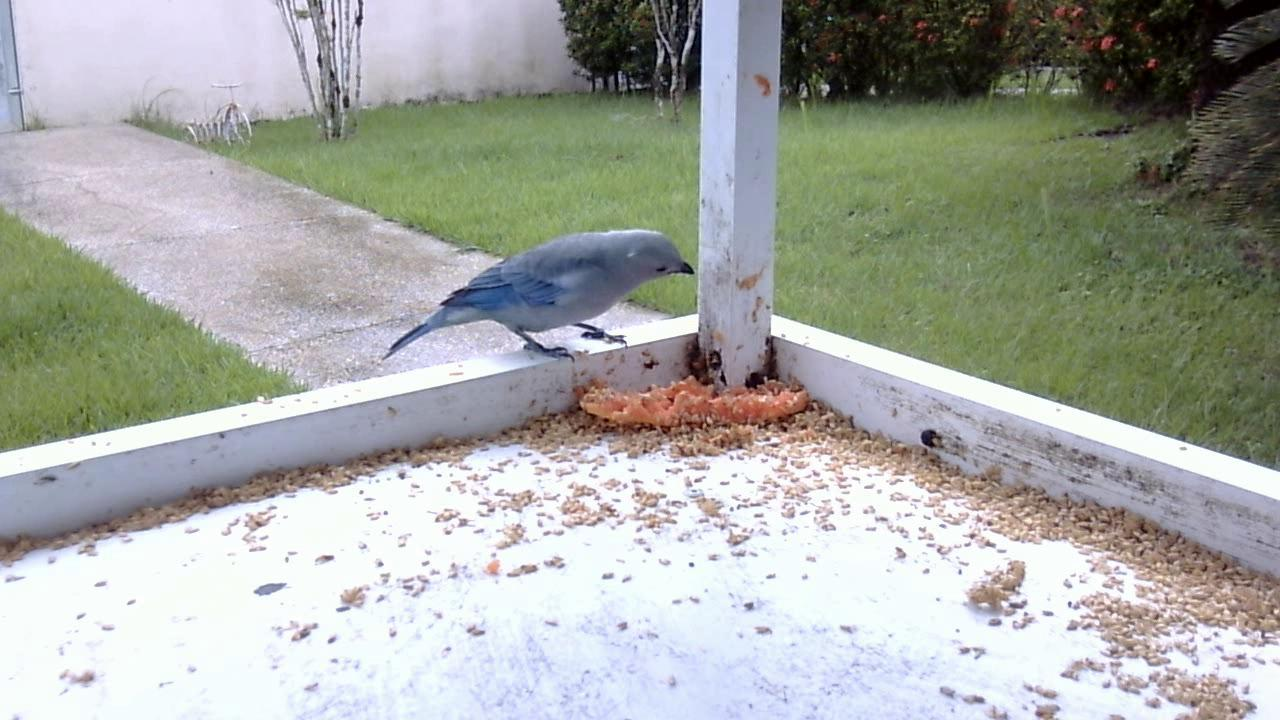sanhaco_da_amazonia: (381, 222, 696, 376)
